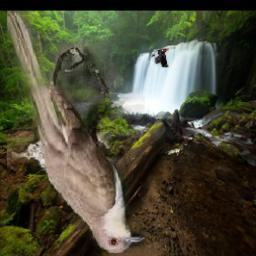Cuckoo: (7, 11, 145, 253)
Woodpecker: (151, 48, 168, 67)
